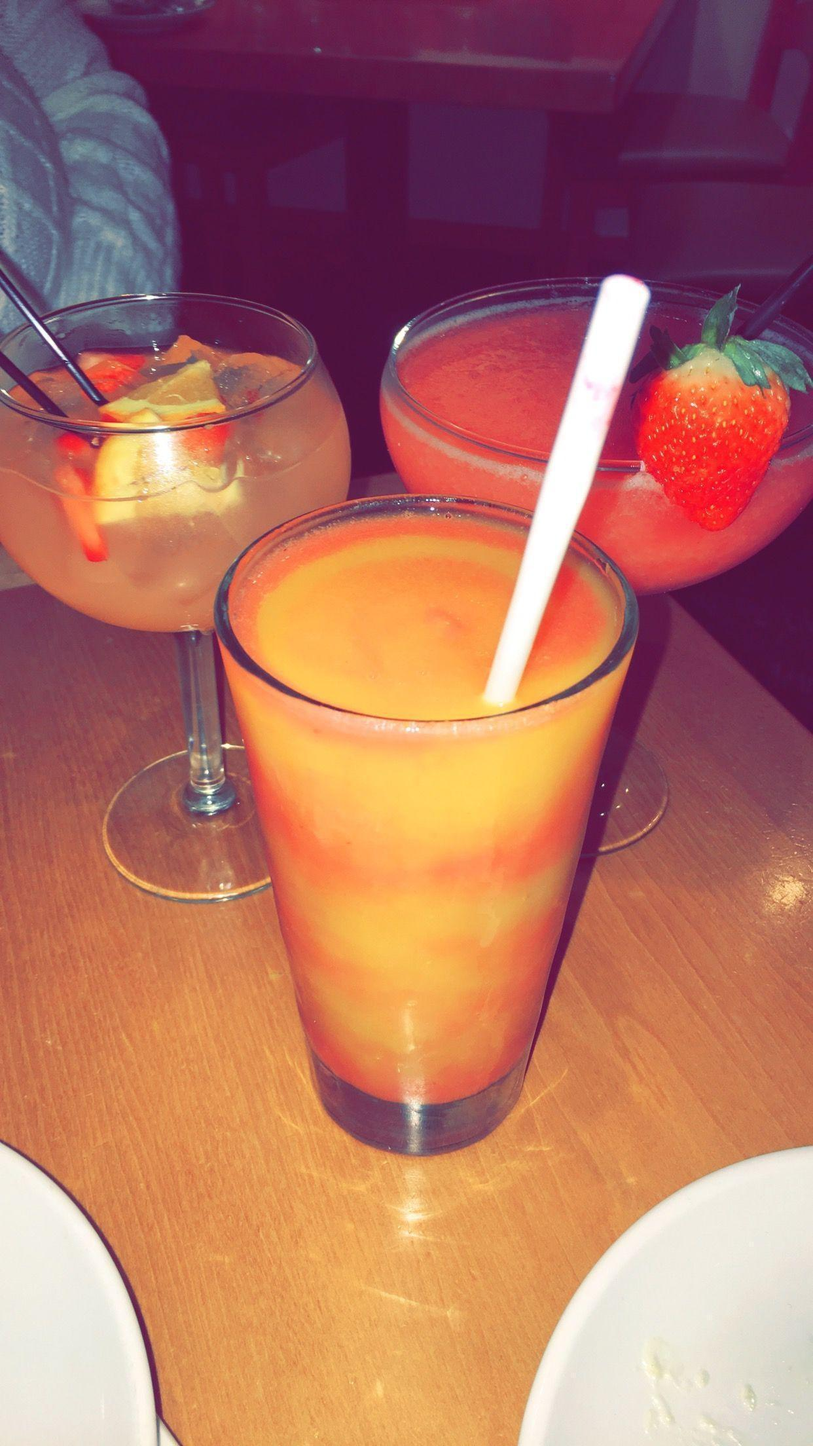glass-normal: (213, 488, 643, 1157)
glass-wine: (379, 267, 811, 844), (1, 286, 352, 898)
